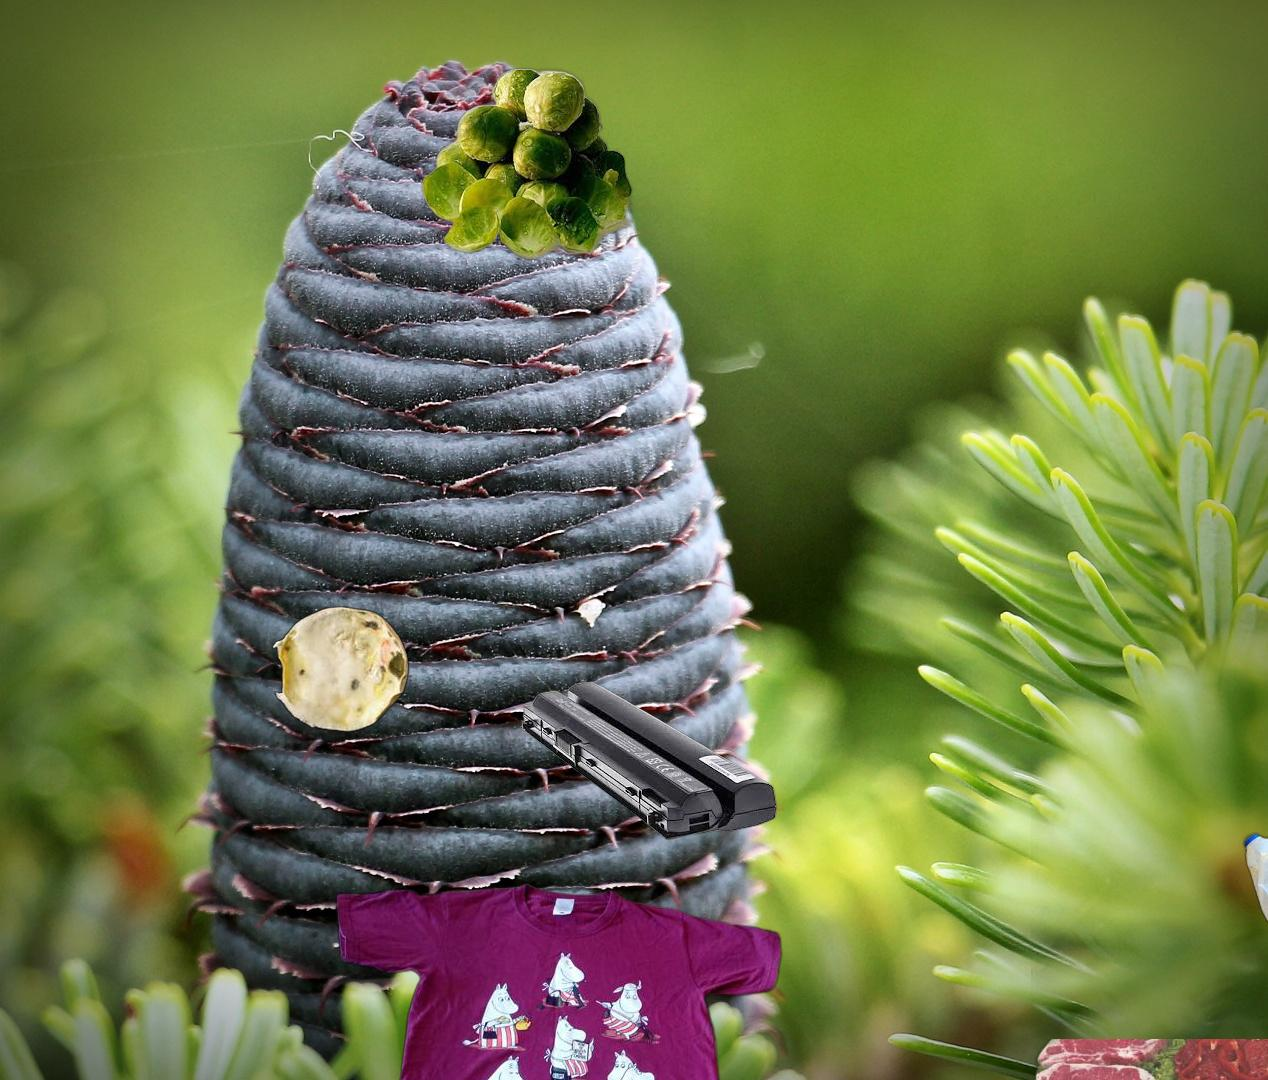battery: (519, 679, 778, 843)
biological: (417, 61, 637, 262), (269, 604, 412, 735)
clothes: (324, 877, 788, 1080)
paper: (986, 1039, 1268, 1080)
plastic-bottles: (1031, 562, 1268, 1011)
